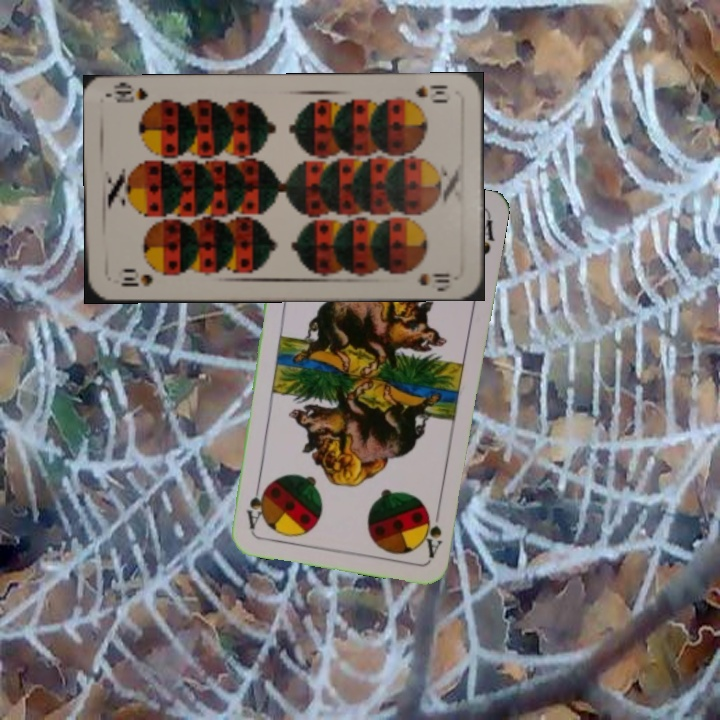S10: (398, 80, 450, 107), (114, 268, 155, 290)
SA: (418, 501, 445, 560)
